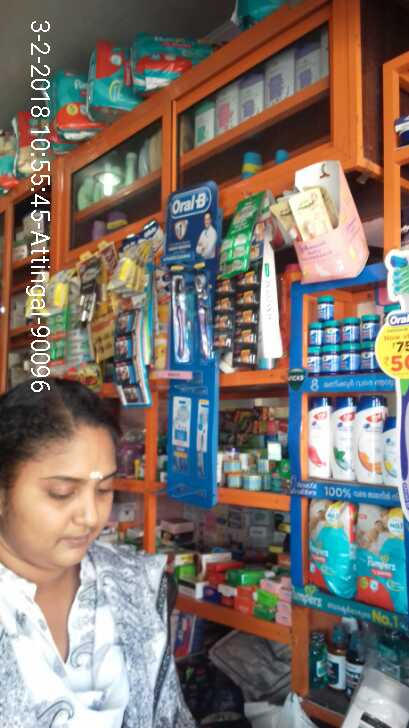beauty: (358, 393, 384, 486), (307, 391, 332, 477), (332, 397, 355, 480)
pharmacy: (358, 503, 404, 612), (309, 495, 355, 597), (194, 260, 215, 363), (168, 267, 191, 361), (359, 310, 382, 342), (340, 341, 362, 374), (313, 295, 338, 322), (321, 344, 342, 374), (340, 316, 361, 344), (323, 319, 343, 345), (308, 345, 324, 376), (308, 319, 323, 348)
